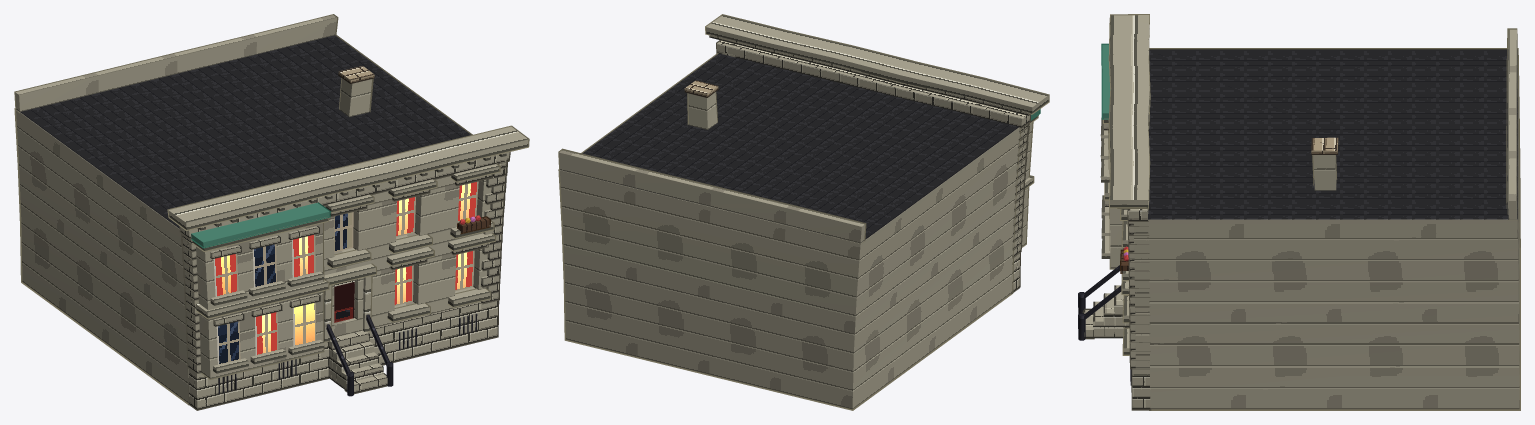
File: Haus_stoop_7.glb
The picture shows the model from 3 angles, left to right: view 1: azimuth 30°, elevation 25°; view 2: azimuth 150°, elevation 25°; view 3: azimuth 270°, elevation 25°; orthographic projection. The views are drawn at different scales.
Parts seen in each view (by area): view 1: Haus_stoop_7; view 2: Haus_stoop_7; view 3: Haus_stoop_7.
Boxes of the visible parts, x1,y1,x2,y2 form: Haus_stoop_7: (14,14,529,410); Haus_stoop_7: (558,14,1049,410); Haus_stoop_7: (1078,14,1520,410).
Size of the model in its own units: 18.33 by 10.91 by 18.46.
Materials: 19 (9 with a texture image).
